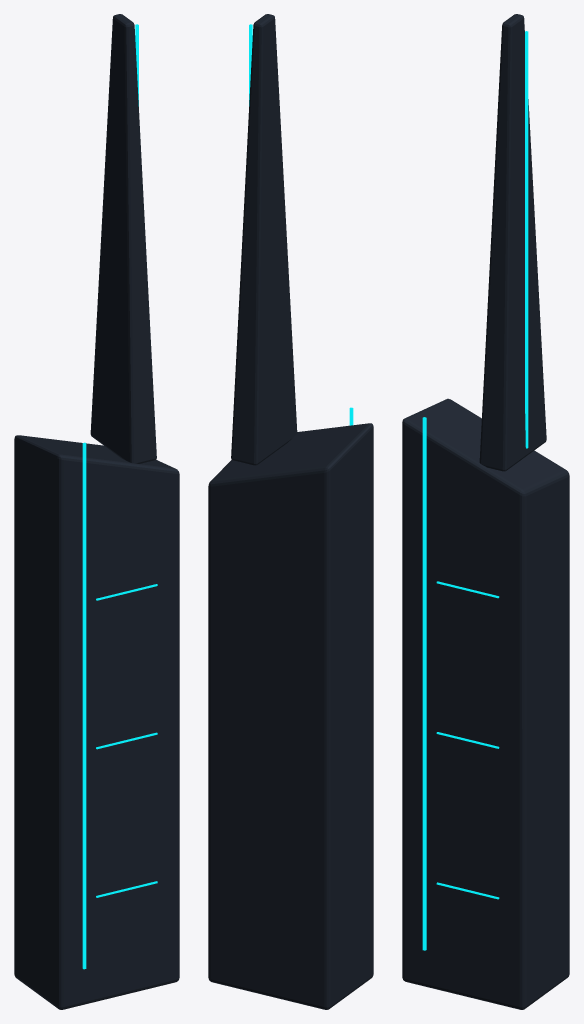
File: BladeTower.glb
3 renders of one model, left to right at view 1: azimuth 30°, elevation 25°; view 2: azimuth 150°, elevation 25°; view 3: azimuth 330°, elevation 25°, orthographic.
Parts seen in each view (by area): view 1: Blade_Slab, Blade_Fin, Blade_Channel; view 2: Blade_Slab, Blade_Fin; view 3: Blade_Slab, Blade_Fin, Blade_Channel, Blade_FinSeam.
Boxes of the visible parts, x1,y1,x2,y2 form: Blade_Slab: [14, 435, 179, 1009]; Blade_Fin: [90, 14, 156, 463]; Blade_Channel: [82, 442, 86, 969]; Blade_Slab: [208, 423, 373, 1009]; Blade_Fin: [231, 14, 297, 465]; Blade_Slab: [402, 398, 569, 1009]; Blade_Fin: [479, 14, 546, 471]; Blade_Channel: [422, 417, 426, 950]; Blade_FinSeam: [525, 31, 528, 448].
Bounding box in the file's own units: 12 × 90 × 8.2.
